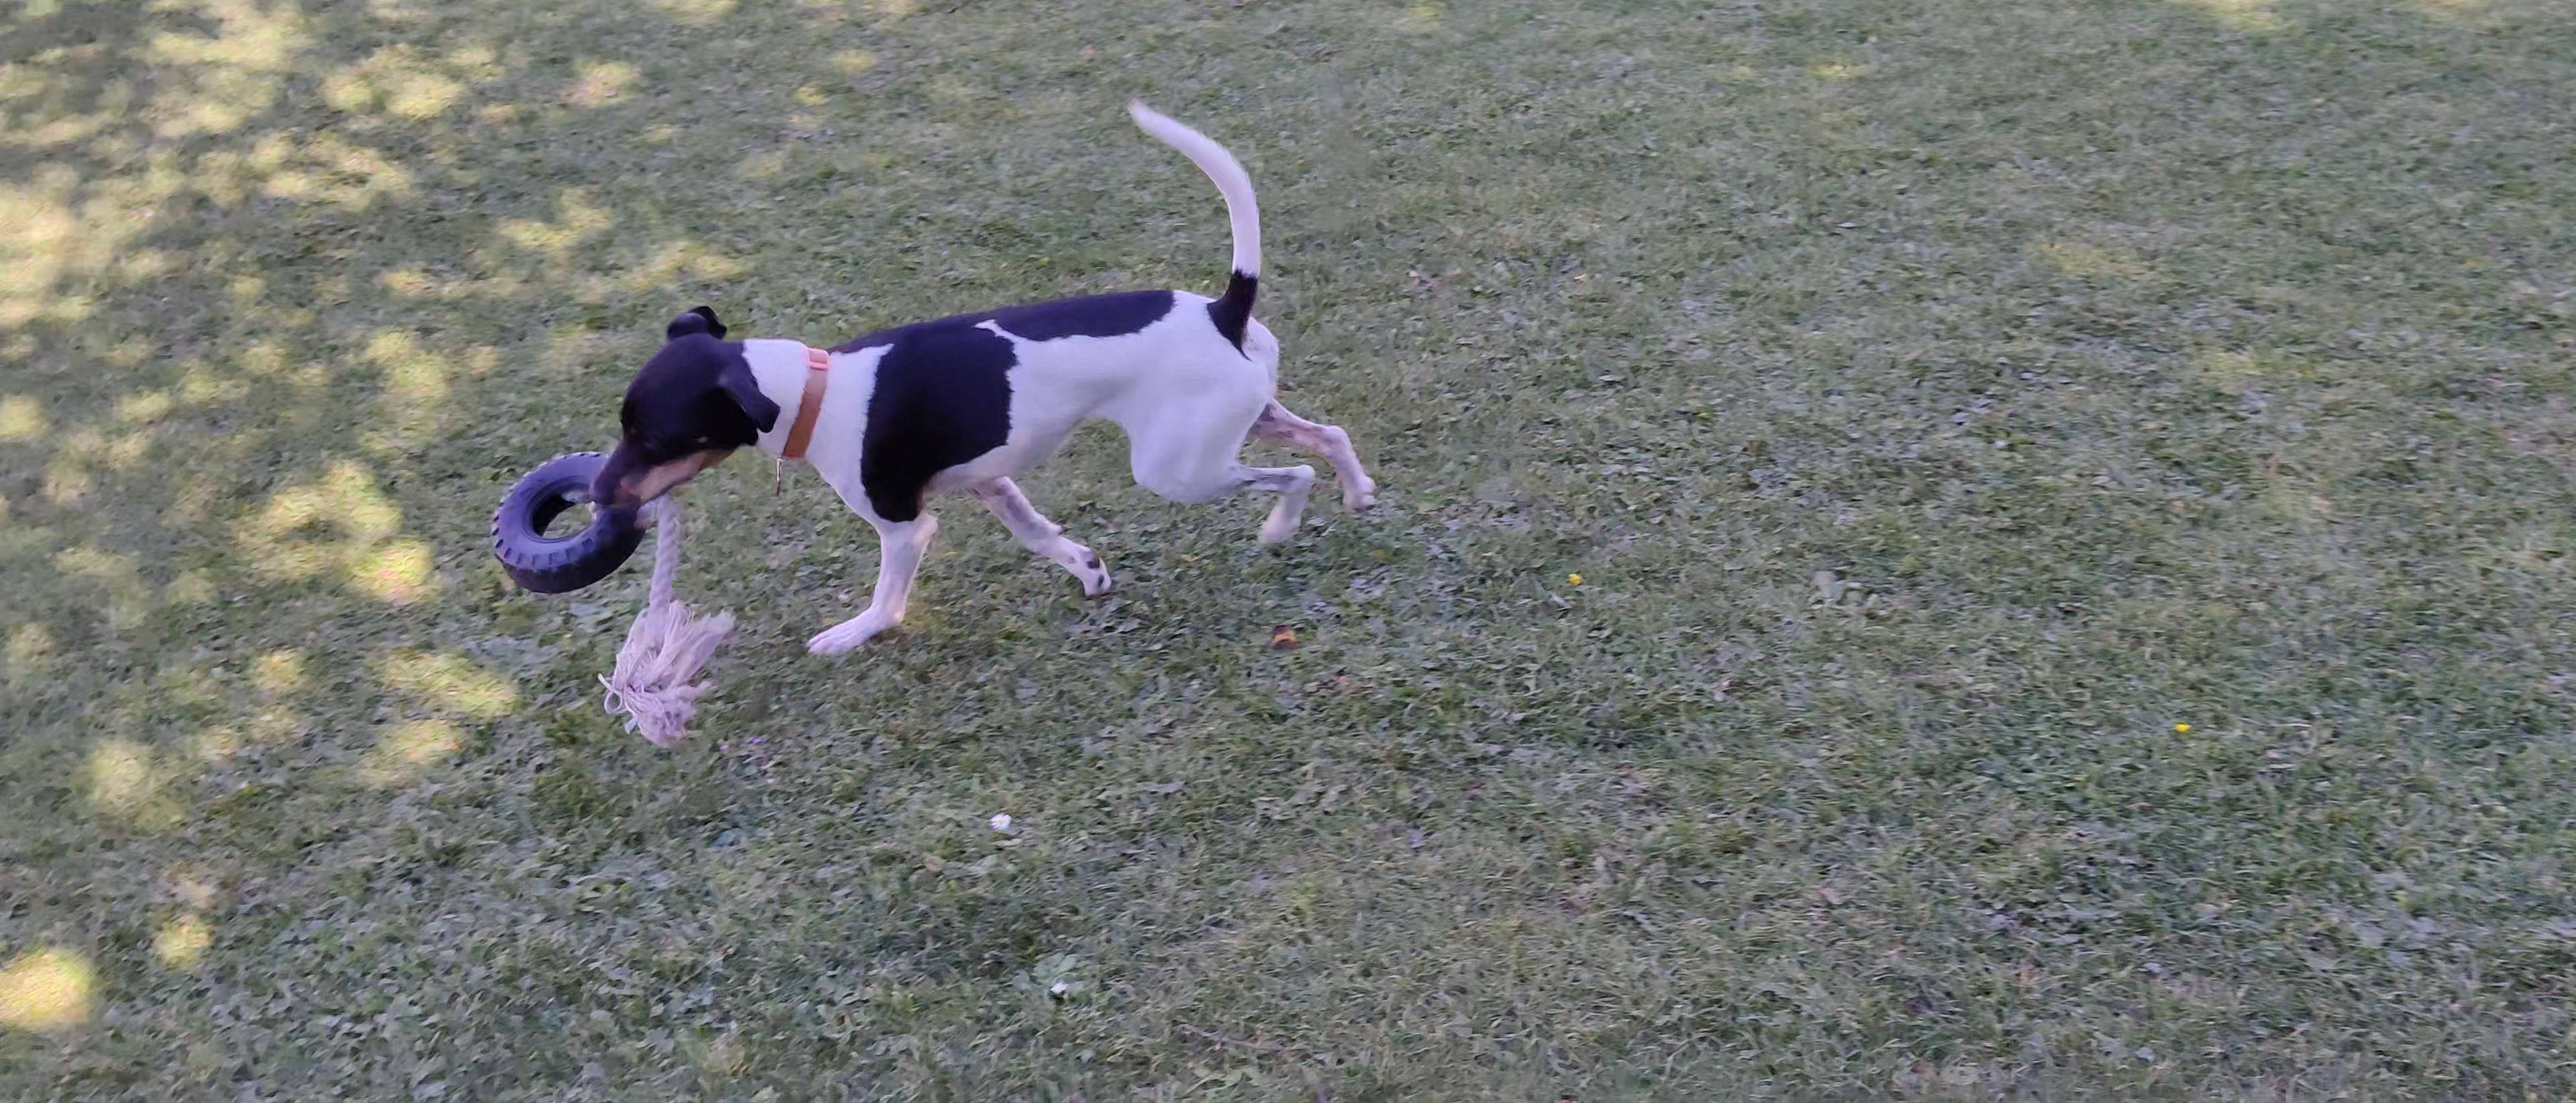Dog: (578, 92, 1401, 679)
